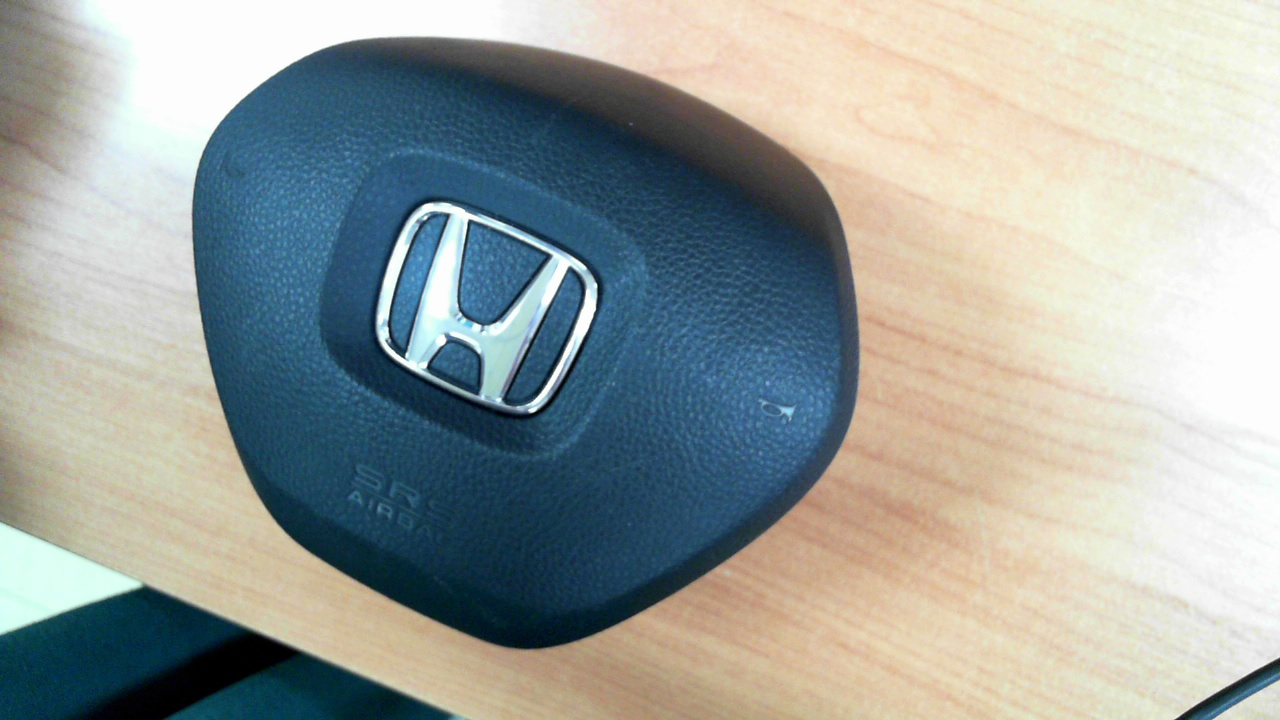Airbag: (191, 35, 862, 650)
Honda: (375, 201, 599, 415)
